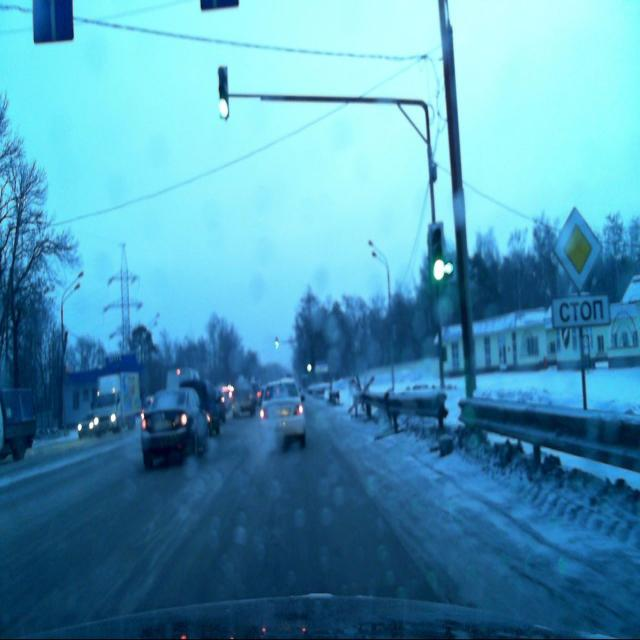object: (580, 333, 588, 412)
road sign: (551, 204, 601, 292), (550, 297, 610, 329)
